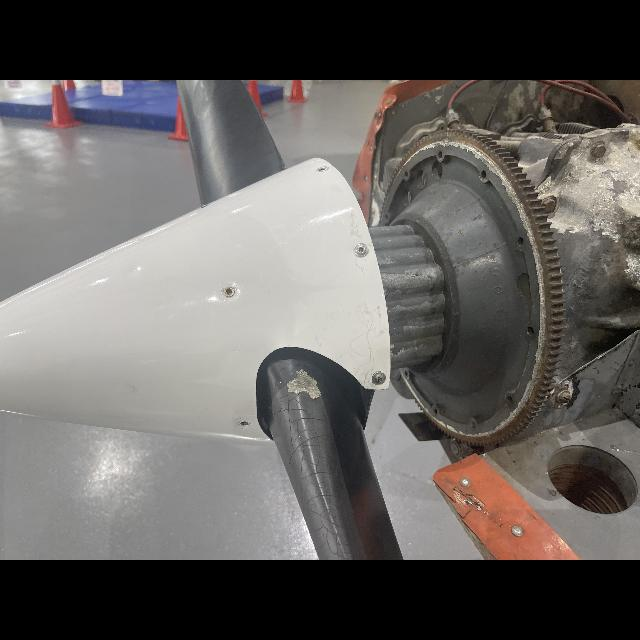Missing Fastener: (236, 414, 250, 431), (312, 166, 328, 172)
